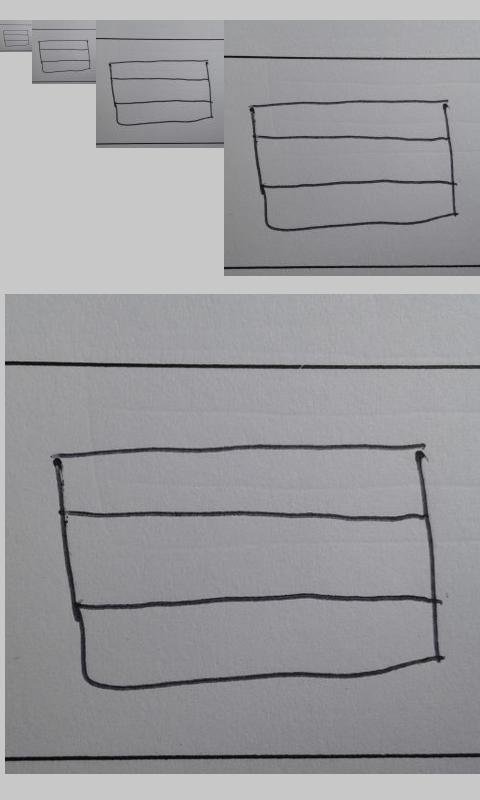list_view: (52, 441, 442, 691), (249, 98, 457, 232), (109, 59, 215, 127), (37, 39, 91, 74), (2, 29, 30, 48)
